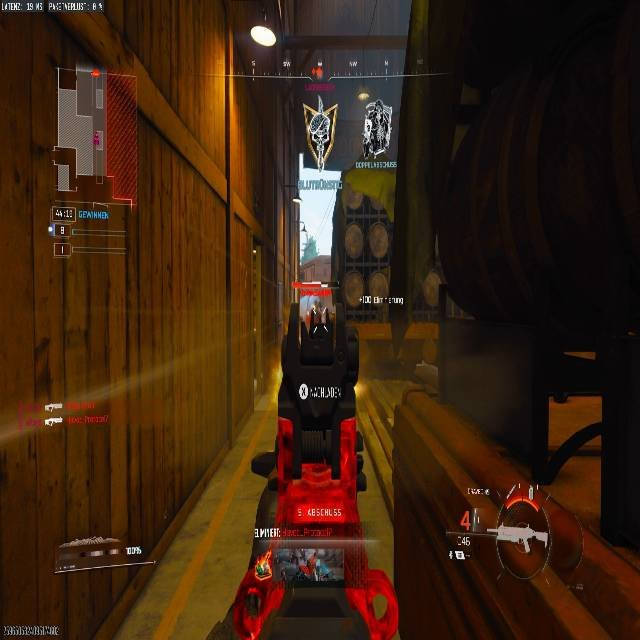player: (308, 301, 328, 336)
